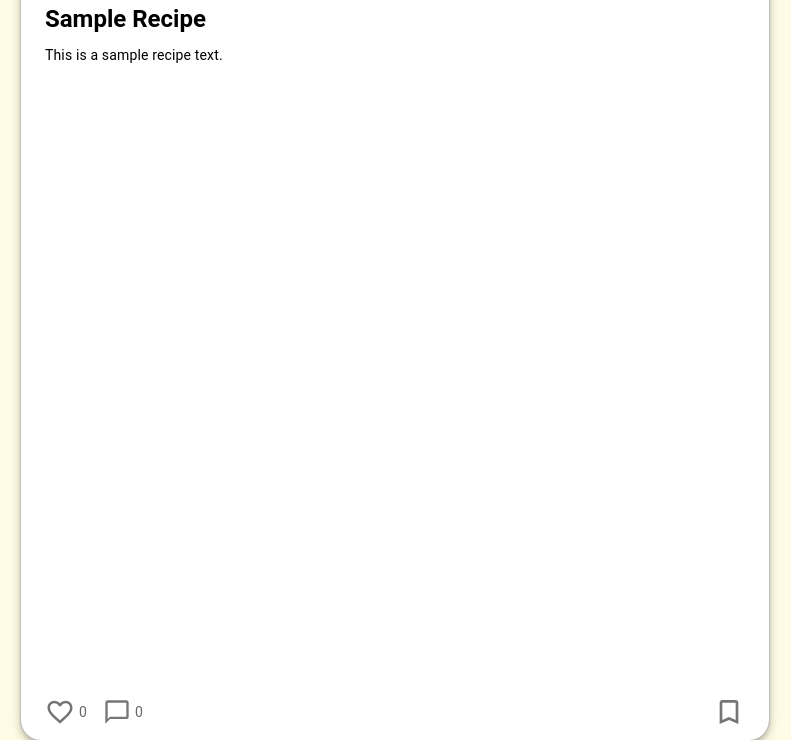
RecipeMini Component › toggles like if user is logged in
(page scrolled)
Expected: the text with test id "like-count" reads "0", [79, 704, 87, 720]
# Click like
Click the button with test id "like-button".
click(62, 712)  # box [45, 697, 79, 727]
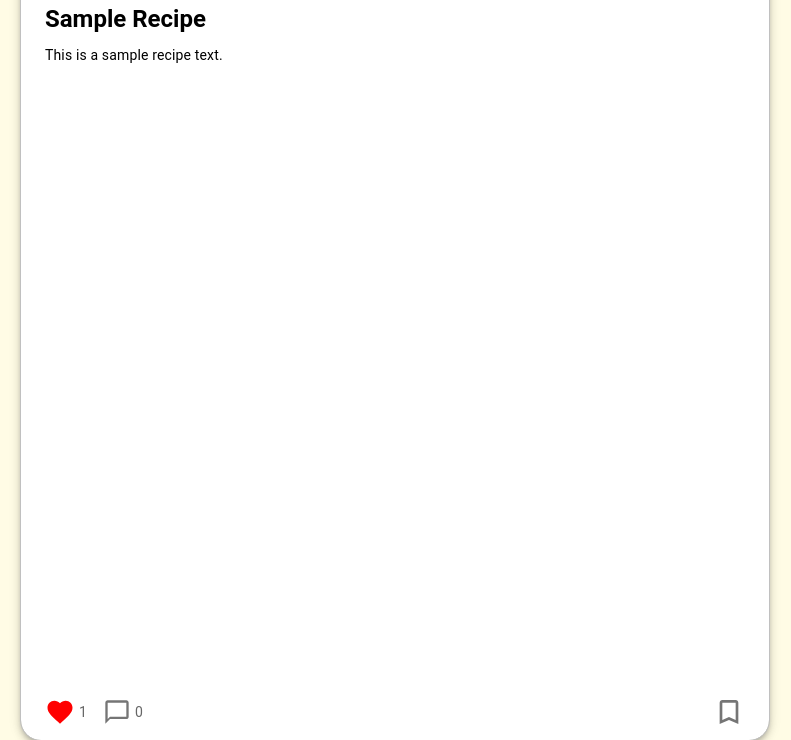
Now the text with test id "like-count" reads "1", box [79, 704, 87, 720]
Now the icon with test id "like-icon-filled" is shown, box [45, 697, 75, 727]
Now the icon with test id "like-icon-border" is gone
